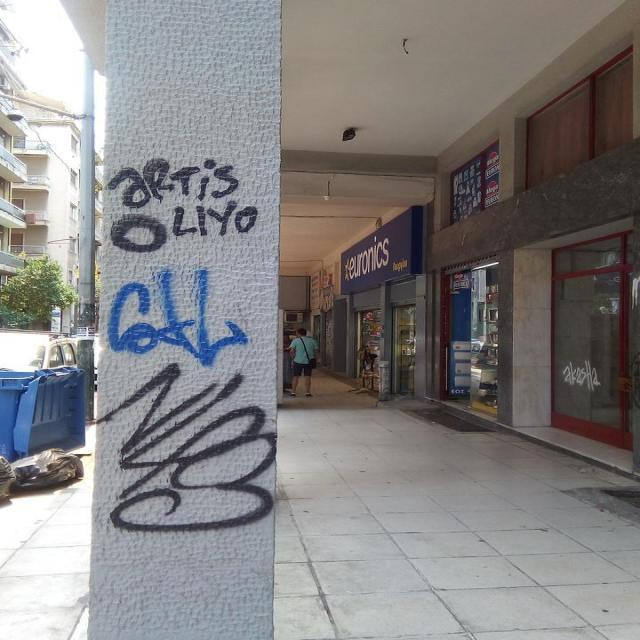nonspitting: (96, 358, 276, 532), (106, 266, 250, 368), (110, 158, 258, 252)
